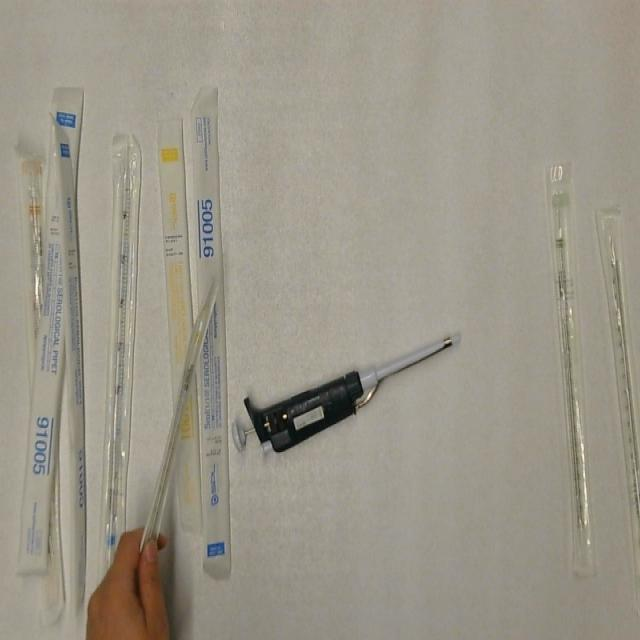Serelogical Pipet 1 mL - Sealed: (157, 118, 204, 536)
Serelogical Pipet 10 mL - Sealed: (20, 154, 48, 400)
Serelogical Pipet 2 mL - Sealed: (541, 157, 602, 579)
Serelogical Pipet 5 mL - Sealed: (14, 85, 85, 578), (188, 82, 238, 584), (98, 134, 145, 591), (50, 107, 90, 614)
Single Channel Pipettor: (228, 329, 467, 466)
